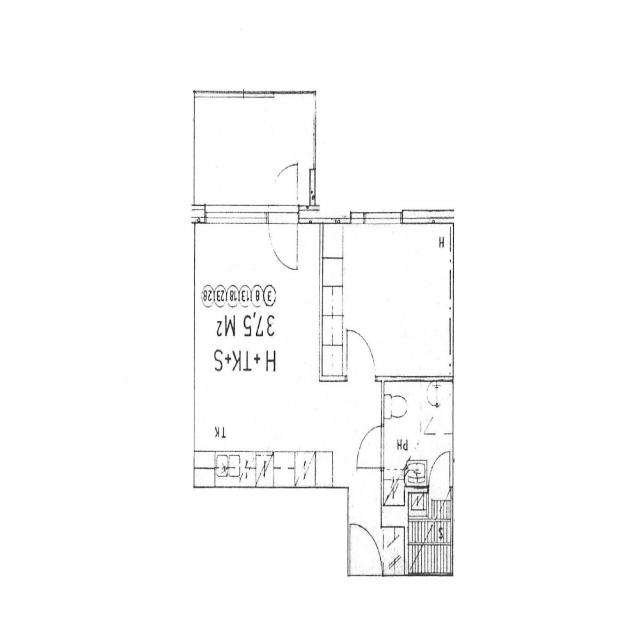door: (349, 519, 382, 584), (268, 206, 297, 273), (268, 156, 297, 223), (347, 327, 375, 382), (356, 426, 384, 468), (428, 450, 449, 494)
